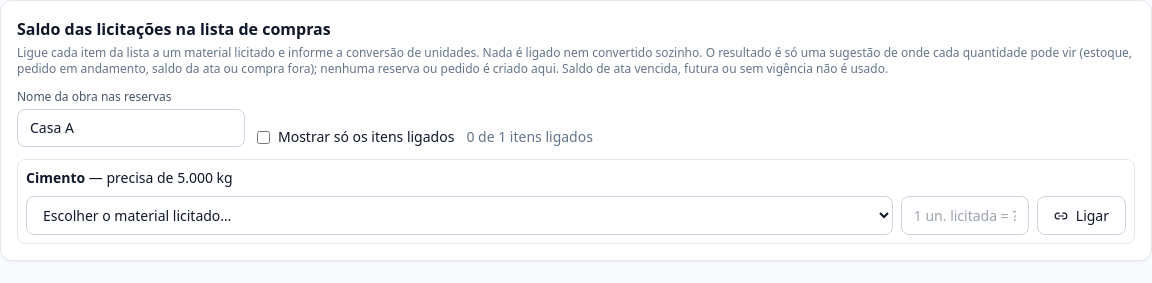
Test: saldo das licitações na lista de compras (tela) › unidade diferente exige o fator do usuário (não vem sugerido) e só liga com fator maior que zero
Select "Cimento CP II 50 kg — 10/2026 (saco)" in the dropdown named "Material licitado para Cimento" at (459, 216), box x1=26 y1=196 x2=893 y2=235
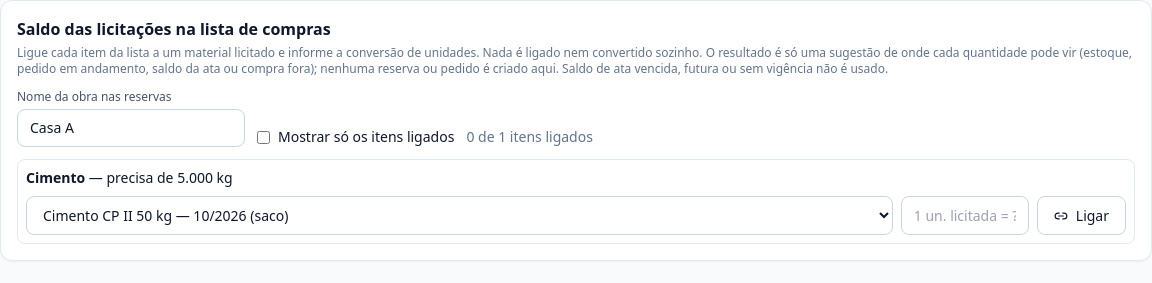
Expected: the button "Ligar" is disabled, x1=1037 y1=196 x2=1126 y2=235
Type "0" into the field named "Fator de conversão de Cimento" at (965, 216), box x1=901 y1=196 x2=1029 y2=235
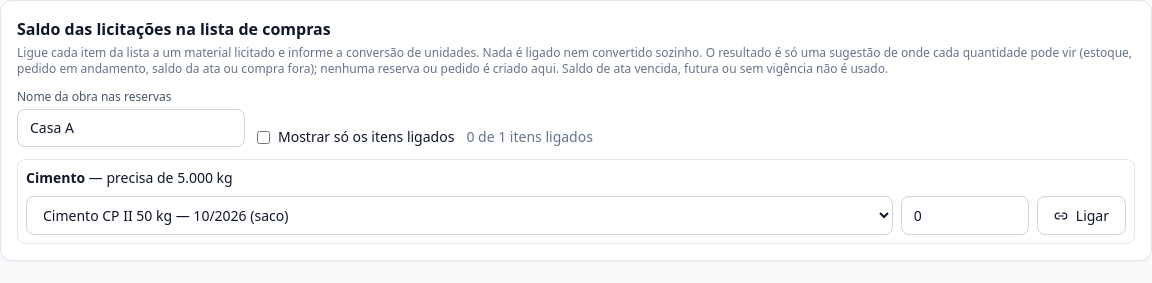
Expected: the button "Ligar" is disabled, x1=1037 y1=196 x2=1126 y2=235
Replace the text in the field named "Fator de conversão de Cimento" with "50" at (965, 216), box x1=901 y1=196 x2=1029 y2=235
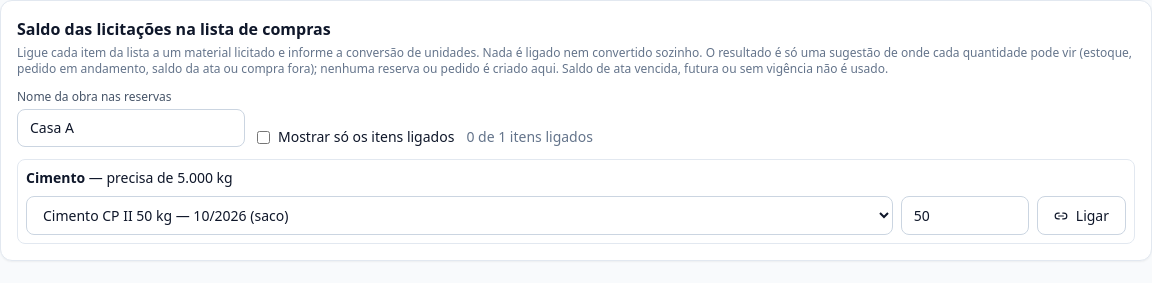
Click the button "Ligar" at (1081, 216), box x1=1037 y1=196 x2=1126 y2=235
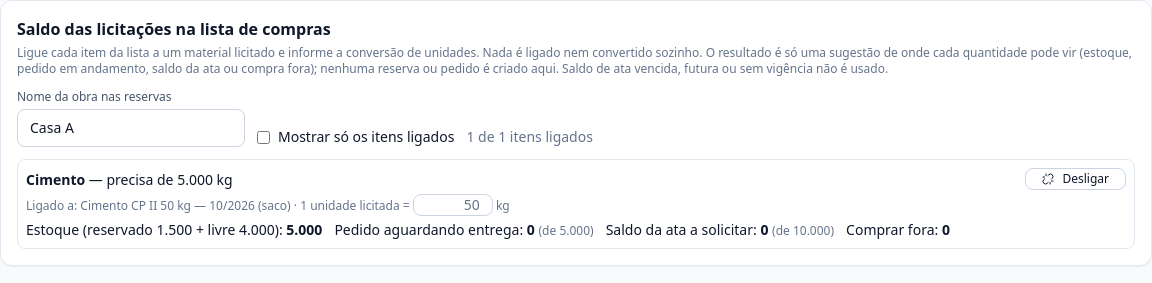
Expected: the text "Estoque (reservado 1.500 + livre 4.000): 5.000" is shown, x1=26 y1=220 x2=322 y2=239
